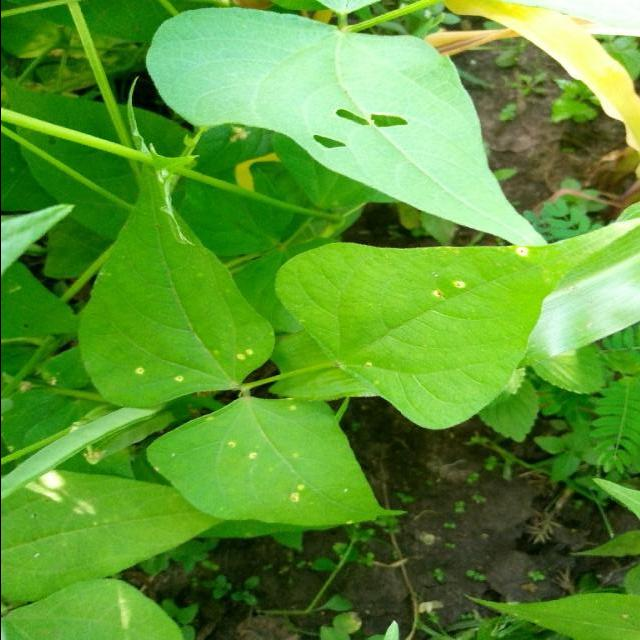hawar: (304, 150, 541, 491)
